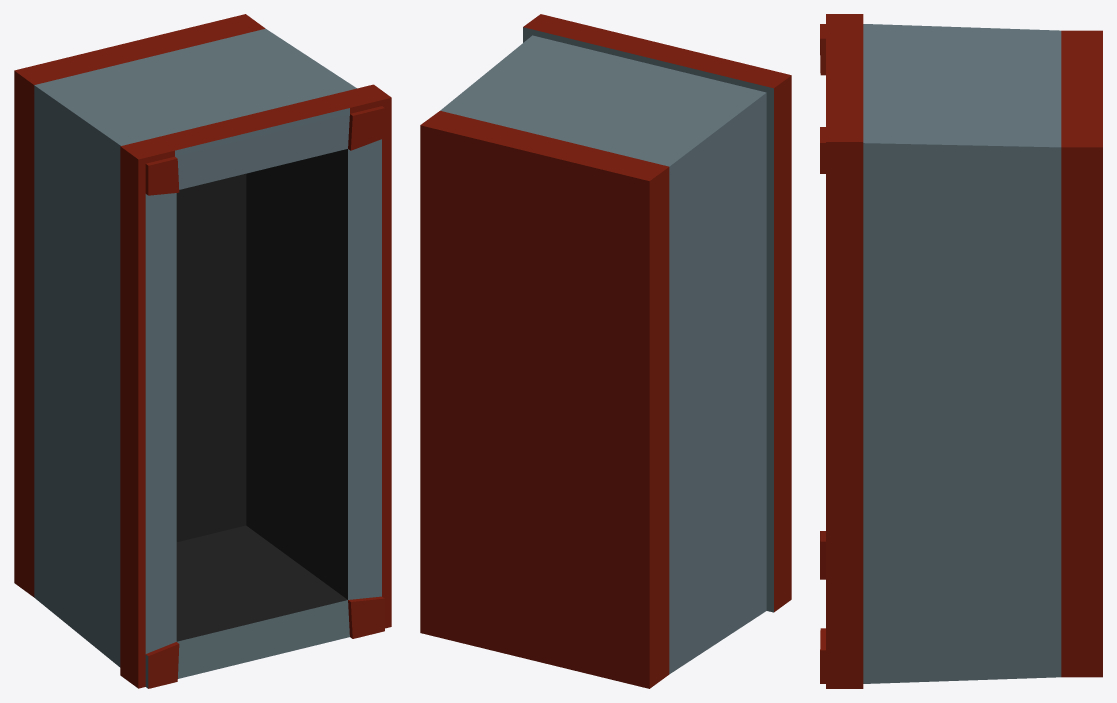
File: Locker.fbx
3 renders of one model, left to right at view 1: azimuth 30°, elevation 25°; view 2: azimuth 150°, elevation 25°; view 3: azimuth 270°, elevation 25°, orthographic. The views are drawn at different scales.
Parts seen in each view (by area): view 1: Cube.006; view 2: Cube.006; view 3: Cube.006.
Part boxes in pixels (<box>): Cube.006: <box>14,14,391,688</box>; Cube.006: <box>420,14,791,688</box>; Cube.006: <box>820,14,1102,688</box>.
Size of the model in its own units: 134 by 268 by 125.
1 material, 1 textured.
